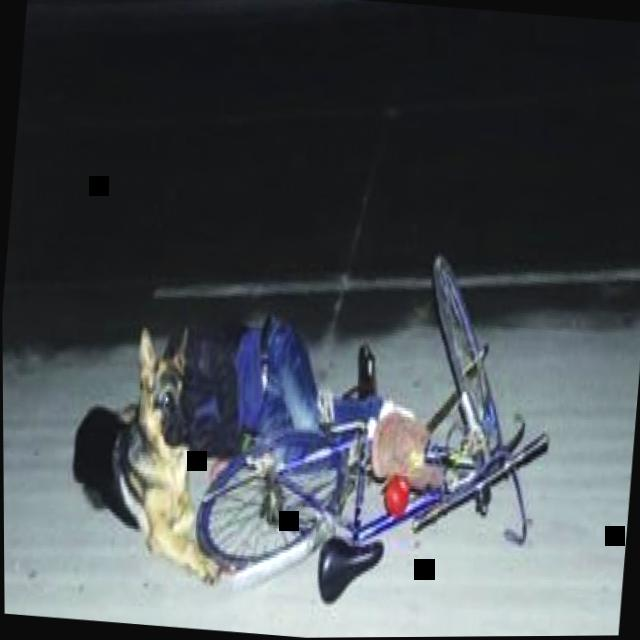Fall-Detected: (48, 233, 454, 602)
